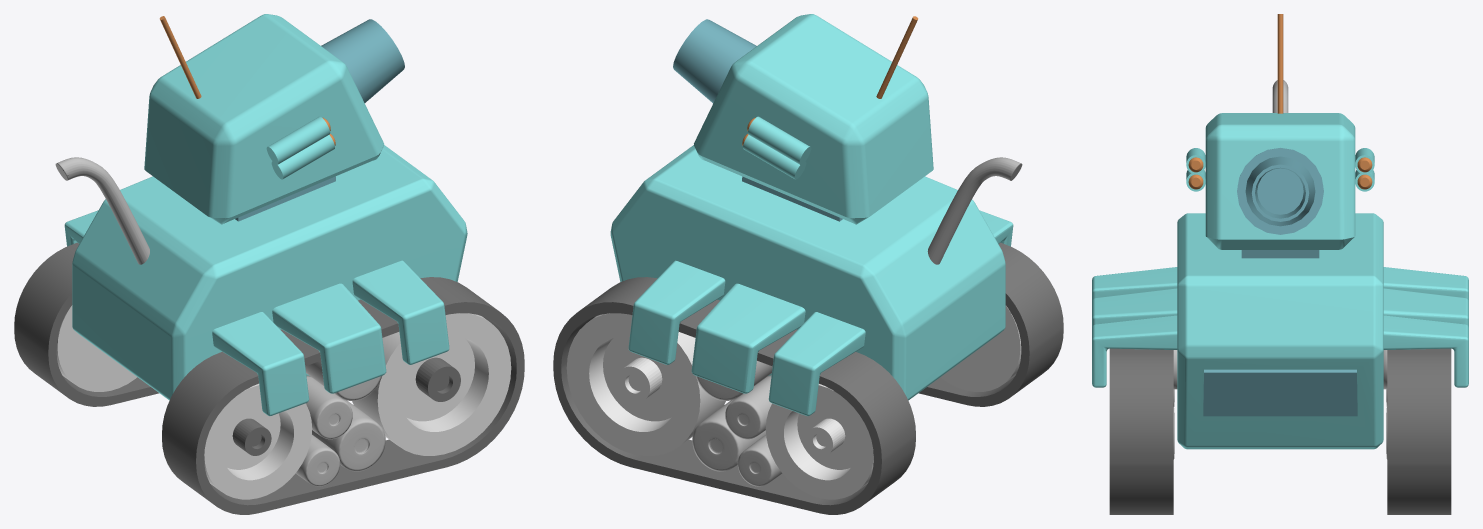
Rendered from blue_tank.fbx.
The picture shows the model from 3 angles, left to right: view 1: azimuth 30°, elevation 25°; view 2: azimuth 150°, elevation 25°; view 3: azimuth 270°, elevation 25°; orthographic projection. The views are drawn at different scales.
Parts seen in each view (by area): view 1: pCylinder41, R_tire1, pCube44, L_tire1, polySurface58; view 2: pCylinder41, L_tire1, pCube44, R_tire1, polySurface58; view 3: pCylinder41, pCube44, L_tire1, R_tire1, polySurface58, pCylinder18.
Part boxes in pixels (left/top/right/bottom): pCylinder41: left=55, top=145, right=467, bottom=416; R_tire1: left=162, top=277, right=524, bottom=514; pCube44: left=144, top=14, right=404, bottom=224; L_tire1: left=14, top=242, right=158, bottom=406; polySurface58: left=266, top=116, right=335, bottom=179; pCylinder41: left=610, top=145, right=1022, bottom=416; L_tire1: left=553, top=277, right=915, bottom=514; pCube44: left=673, top=14, right=933, bottom=224; R_tire1: left=919, top=242, right=1063, bottom=406; polySurface58: left=742, top=116, right=811, bottom=179; pCylinder41: left=1092, top=80, right=1468, bottom=449; pCube44: left=1205, top=113, right=1355, bottom=258; L_tire1: left=1383, top=348, right=1451, bottom=514; R_tire1: left=1109, top=348, right=1177, bottom=514; polySurface58: left=1186, top=148, right=1374, bottom=191; pCylinder18: left=1277, top=14, right=1283, bottom=113.
Bounding box in the file's own units: 7.63 × 8.34 × 7.03.
